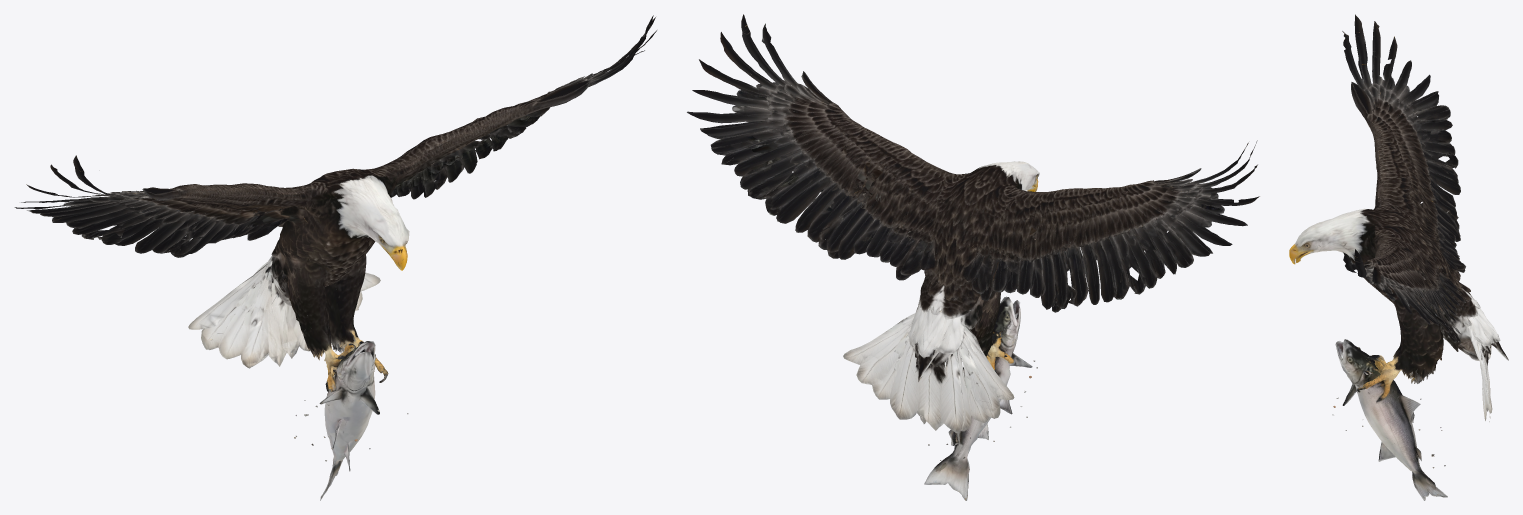
The model's file is bird-bald-eagle-catching-fish.glb.
3 views of the same model, side by side, from view 1: azimuth 30°, elevation 25°; view 2: azimuth 150°, elevation 25°; view 3: azimuth 270°, elevation 25° (orthographic). The views are drawn at different scales.
Parts seen in each view (by area): view 1: Mesh_0_modddif_material_0_0; view 2: Mesh_0_modddif_material_0_0; view 3: Mesh_0_modddif_material_0_0.
Boxes of the visible parts, bbox=[...] form: Mesh_0_modddif_material_0_0: bbox=[14, 15, 656, 500]; Mesh_0_modddif_material_0_0: bbox=[687, 14, 1259, 500]; Mesh_0_modddif_material_0_0: bbox=[1289, 14, 1508, 500].
Bounding box in the file's own units: 1 × 0.6742 × 0.3616.
1 material, 1 textured.
